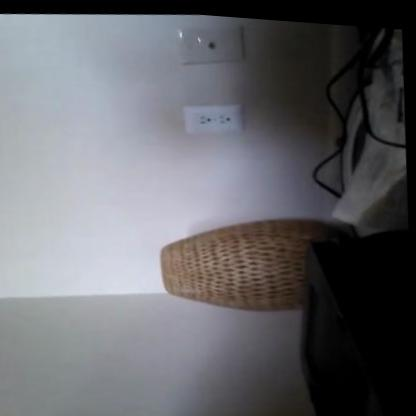OUTLET: (182, 100, 242, 138)
